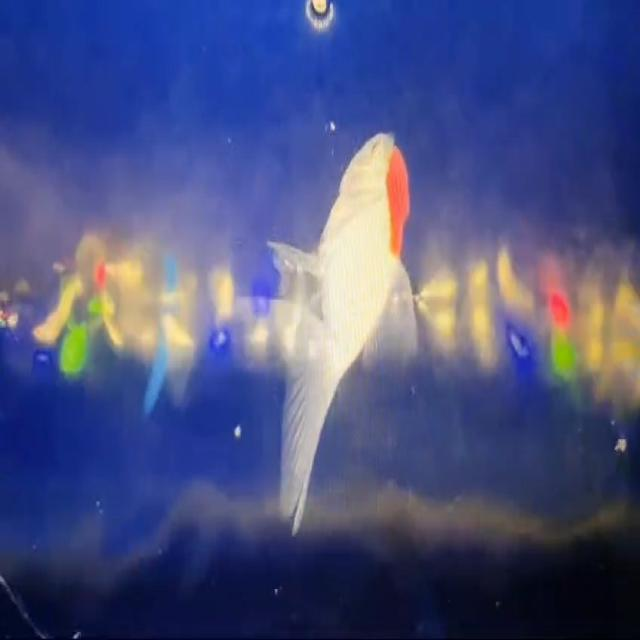fish: (246, 117, 415, 552)
